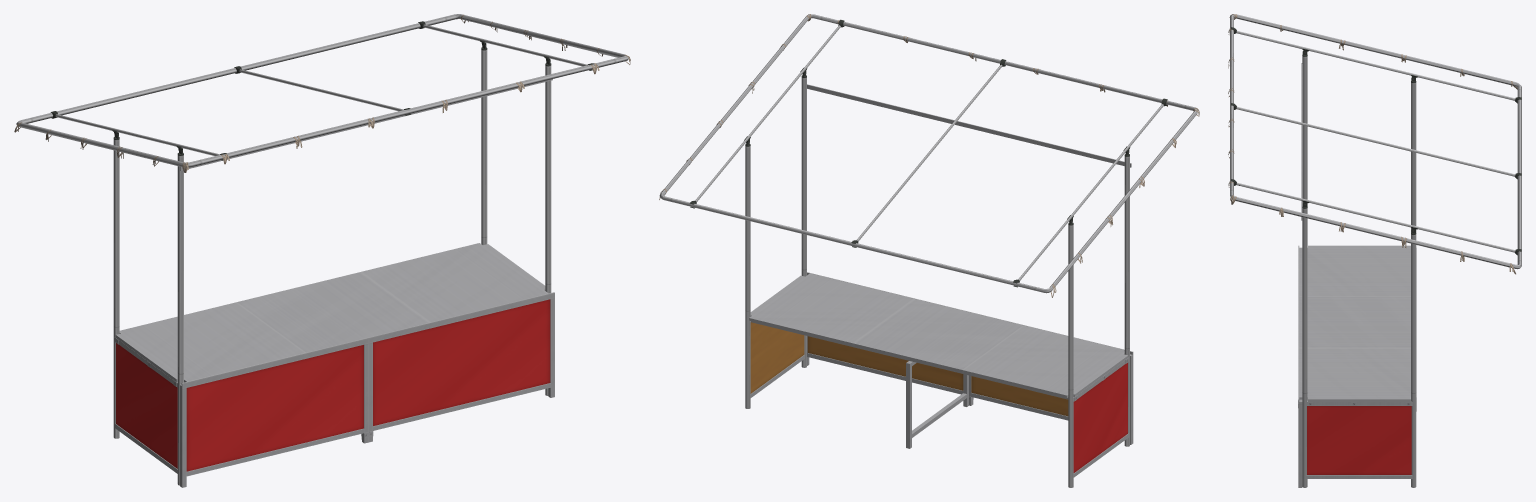
File: jsf_4P_s03_c06_t01.fbx
3 views of the same model, side by side, from view 1: azimuth 30°, elevation 25°; view 2: azimuth 150°, elevation 25°; view 3: azimuth 270°, elevation 25° (orthographic). The views are drawn at different scales.
Parts seen in each view (by area): view 1: Base_s03_c06, Table_4P_s03_t01, Pillar4_s03, Rope_4P_s03; view 2: Table_4P_s03_t01, Pillar4_s03, Base_s03_c06, Support; view 3: Table_4P_s03_t01, Pillar4_s03, Base_s03_c06, Rope_4P_s03.
Part boxes in pixels (left/top/right/bottom): Base_s03_c06: left=114, top=292, right=554, bottom=487; Table_4P_s03_t01: left=115, top=243, right=548, bottom=386; Pillar4_s03: left=16, top=14, right=628, bottom=485; Rope_4P_s03: left=14, top=14, right=630, bottom=172; Table_4P_s03_t01: left=749, top=273, right=1128, bottom=400; Pillar4_s03: left=659, top=14, right=1198, bottom=487; Base_s03_c06: left=750, top=272, right=1133, bottom=477; Support: left=906, top=361, right=968, bottom=448; Table_4P_s03_t01: left=1299, top=245, right=1416, bottom=405; Pillar4_s03: left=1230, top=14, right=1521, bottom=487; Base_s03_c06: left=1298, top=245, right=1412, bottom=487; Rope_4P_s03: left=1228, top=14, right=1517, bottom=274.
Bounding box in the file's own units: 316 × 243 × 211.
